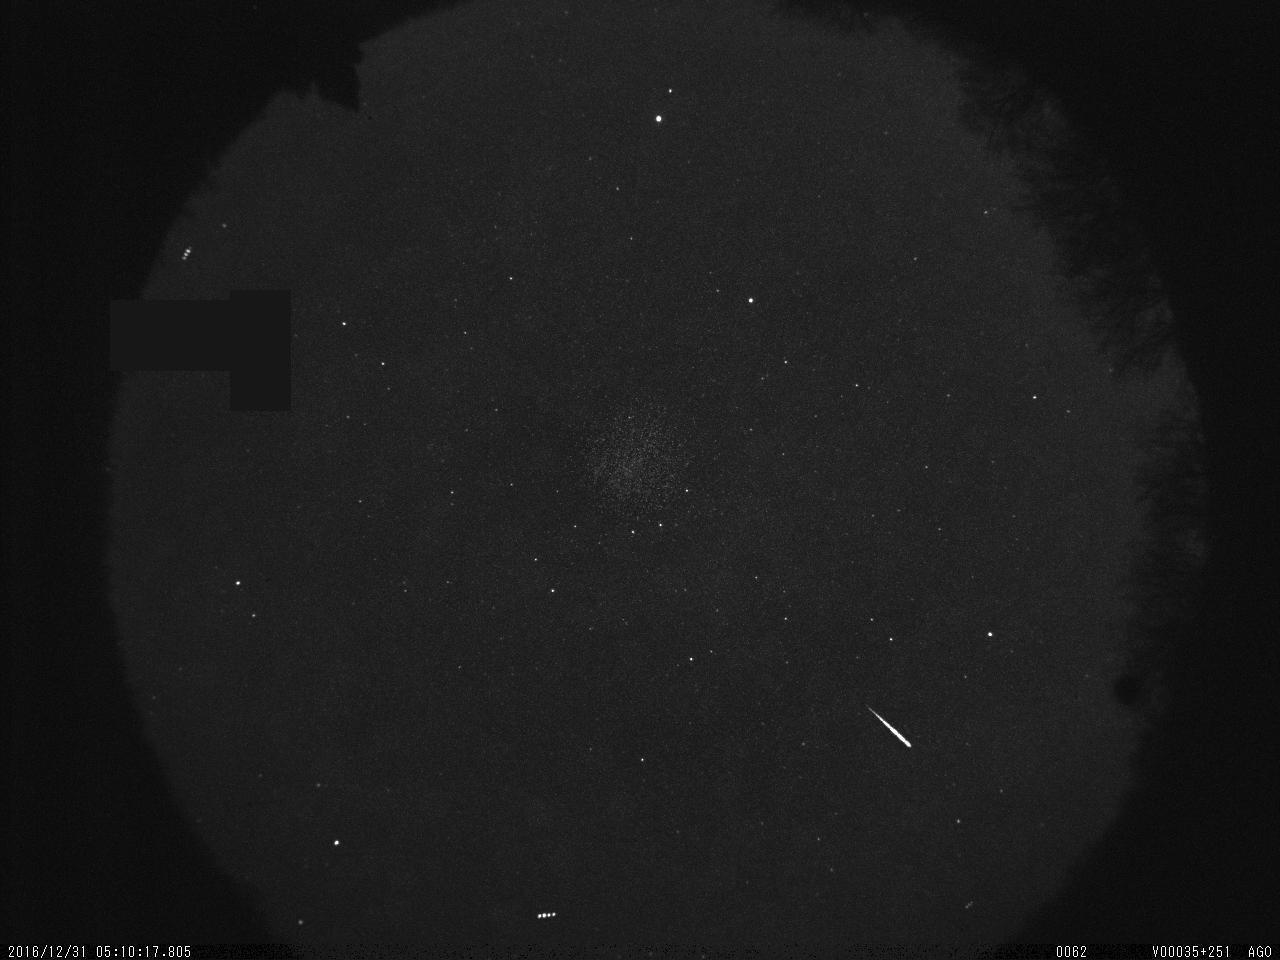Meteor: (866, 703, 912, 746)
